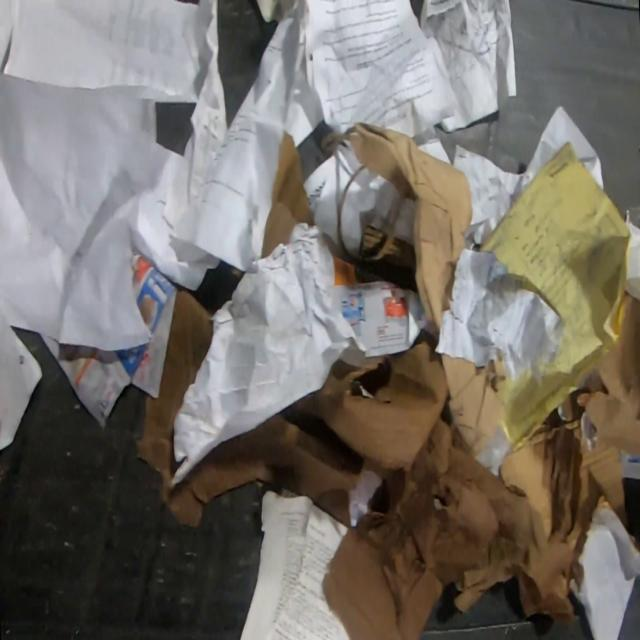cardboard: (497, 292, 640, 552), (345, 121, 472, 336), (289, 327, 449, 475), (439, 352, 508, 458)
